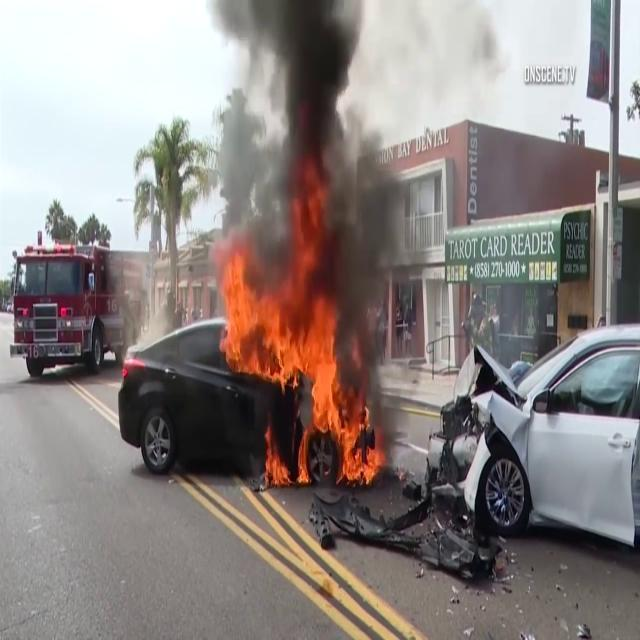Fire: (210, 246, 382, 495)
Smoke: (183, 0, 427, 316)
